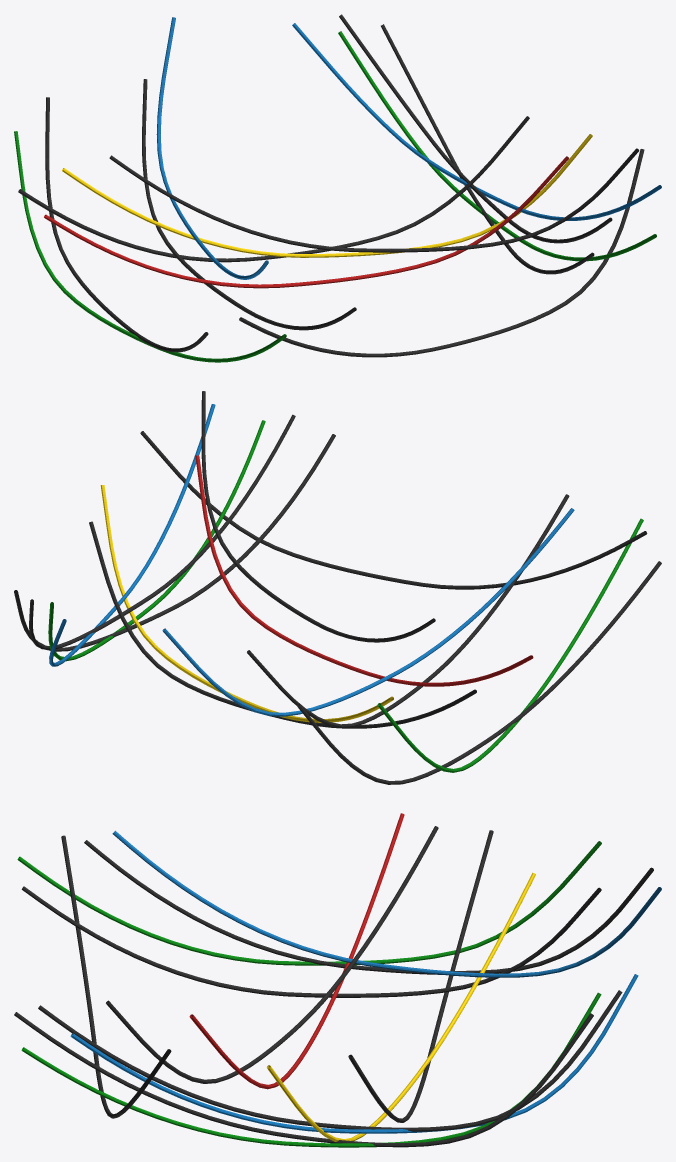
The model's file is cables_ceiling.fbx.
The picture shows the model from 3 angles, top to bottom: view 1: azimuth 30°, elevation 25°; view 2: azimuth 150°, elevation 25°; view 3: azimuth 270°, elevation 25°; orthographic projection. The views are drawn at different scales.
Visible parts, largest first — view 1: cables_ceiling; view 2: cables_ceiling; view 3: cables_ceiling.
Boxes of the visible parts, <box> form: cables_ceiling: <box>14,14,661,362</box>; cables_ceiling: <box>14,391,661,784</box>; cables_ceiling: <box>14,813,661,1147</box>.
Bounding box in the file's own units: 281 × 90.64 × 290.
